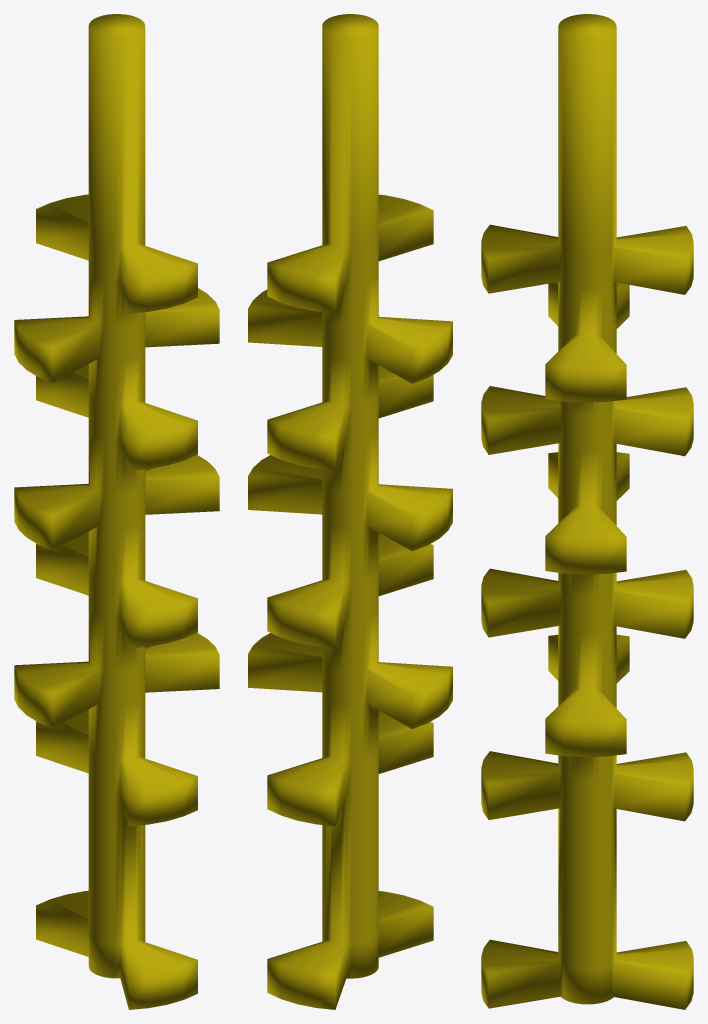
Rendered from RotatingPlatform1.fbx.
3 renders of one model, left to right at view 1: azimuth 30°, elevation 25°; view 2: azimuth 150°, elevation 25°; view 3: azimuth 270°, elevation 25°, orthographic. The views are drawn at different scales.
Parts seen in each view (by area): view 1: RotatingPlatform1; view 2: RotatingPlatform1; view 3: RotatingPlatform1.
Boxes of the visible parts, x1,y1,x2,y2 form: RotatingPlatform1: [14, 14, 219, 1009]; RotatingPlatform1: [248, 14, 452, 1009]; RotatingPlatform1: [481, 14, 693, 1009].
Size of the model in its own units: 905 by 905 by 4539.
